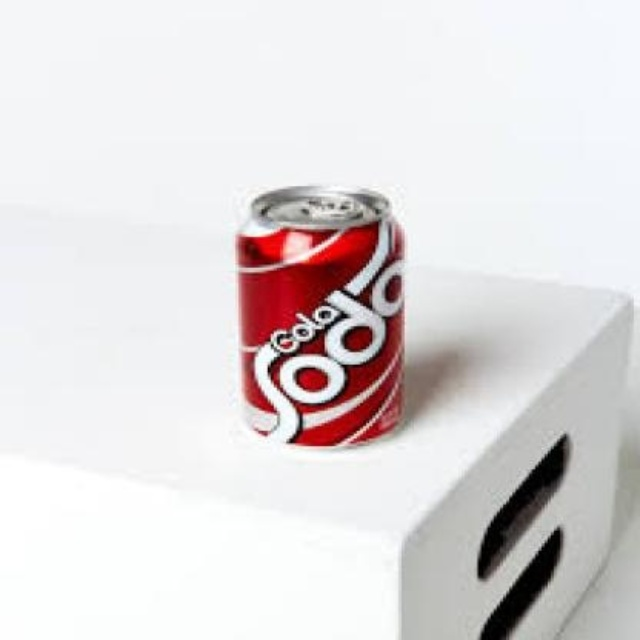trash: (237, 186, 403, 445)
